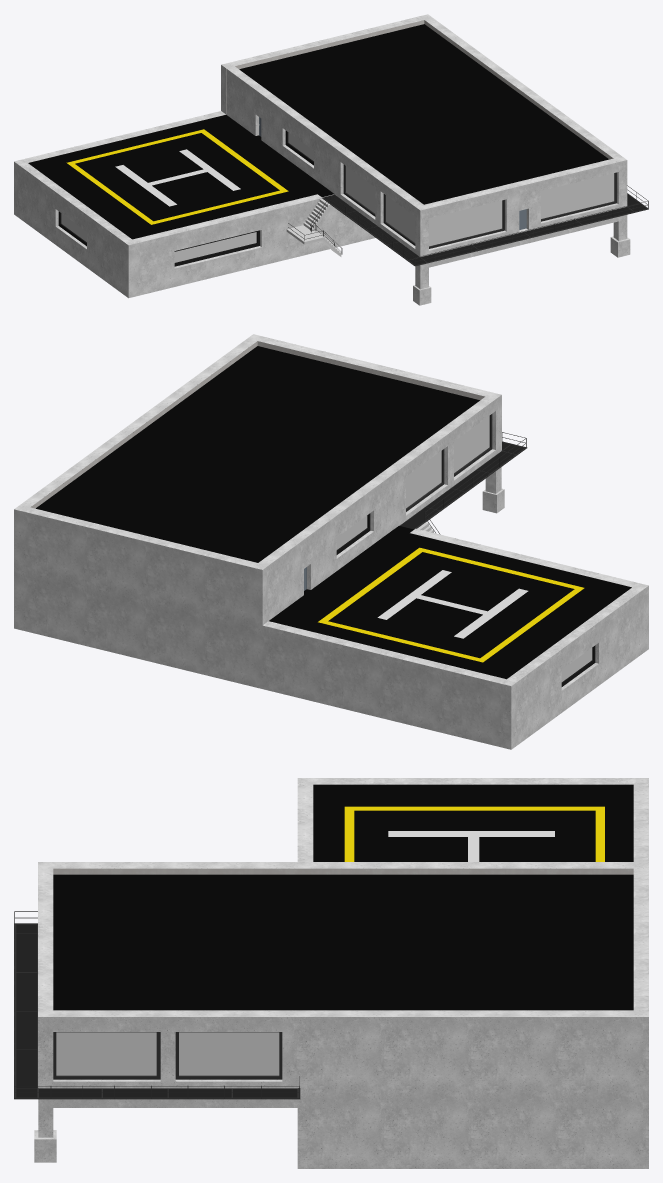
Rendered from military-hq.walls-v3.lod0.glb.
The picture shows the model from 3 angles, top to bottom: view 1: azimuth 30°, elevation 25°; view 2: azimuth 150°, elevation 25°; view 3: azimuth 270°, elevation 25°; orthographic projection. The views are drawn at different scales.
Parts seen in each view (by area): view 1: Walls_Floor_2_0, Walls_Outer_Walls_0, Railing_Railing_0, Walls_Inner_walls_0; view 2: Walls_Floor_2_0, Walls_Outer_Walls_0, Walls_Inner_walls_0, Railing_Railing_0; view 3: Walls_Floor_2_0, Walls_Outer_Walls_0, Railing_Railing_0, Walls_Inner_walls_0.
Part boxes in pixels (box(x1,y1,x2,y2)): Walls_Floor_2_0: box(28, 24, 646, 266); Walls_Outer_Walls_0: box(14, 14, 630, 305); Railing_Railing_0: box(288, 164, 648, 266); Walls_Inner_walls_0: box(50, 20, 613, 159); Walls_Floor_2_0: box(36, 346, 631, 686); Walls_Outer_Walls_0: box(14, 334, 648, 749); Walls_Inner_walls_0: box(30, 341, 631, 587); Railing_Railing_0: box(399, 414, 527, 534); Walls_Floor_2_0: box(16, 784, 633, 1097); Walls_Outer_Walls_0: box(34, 778, 648, 1168); Railing_Railing_0: box(14, 911, 300, 1099); Walls_Inner_walls_0: box(53, 868, 633, 874).
Bounding box in the file's own units: 40.21 × 8.91 × 33.7.
Materials: 6 (4 with a texture image).
